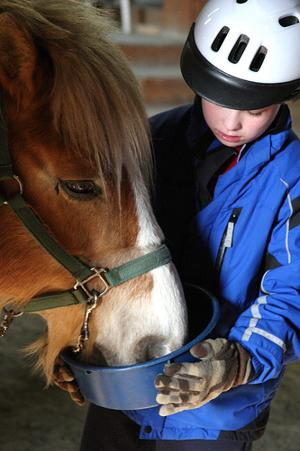person: (59, 1, 300, 451)
